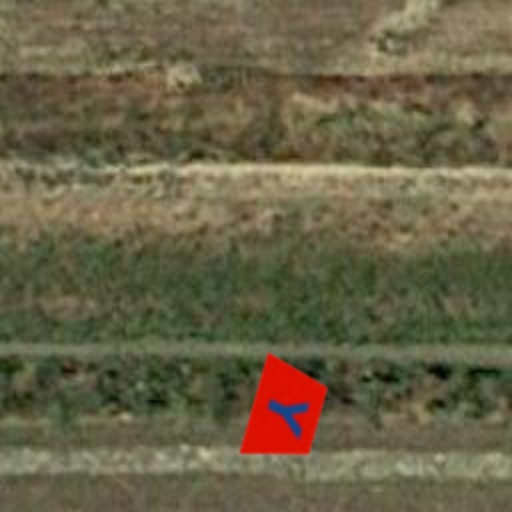trapezoid: (220, 346, 352, 478)
